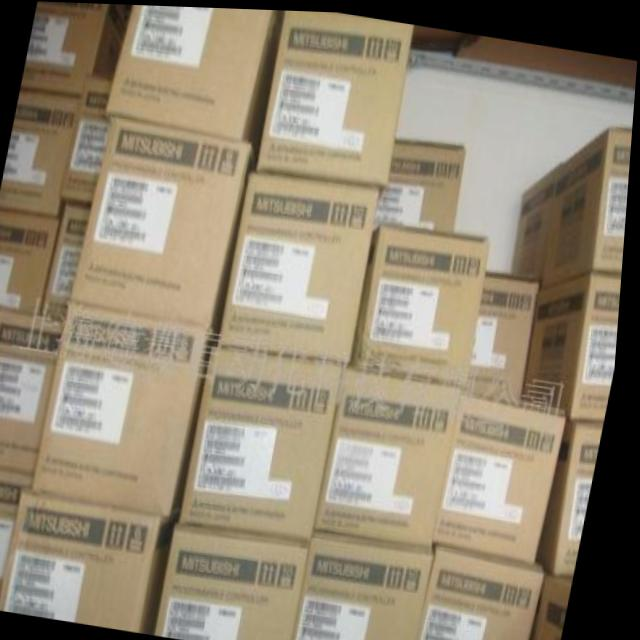box: (74, 115, 259, 332), (38, 301, 223, 518), (184, 343, 349, 542), (221, 168, 381, 362), (258, 8, 414, 187), (319, 360, 468, 541), (6, 488, 189, 634), (107, 4, 283, 155), (441, 389, 574, 561), (356, 222, 494, 387), (164, 523, 317, 640), (302, 529, 441, 640), (528, 266, 625, 418), (544, 122, 634, 285), (425, 542, 553, 640), (0, 309, 69, 474), (0, 90, 83, 217), (22, 1, 128, 97), (470, 267, 544, 397), (546, 417, 608, 572), (376, 136, 468, 230), (0, 209, 64, 318), (63, 75, 114, 203), (44, 203, 95, 322), (513, 159, 564, 274), (0, 464, 40, 610), (538, 566, 580, 640)
